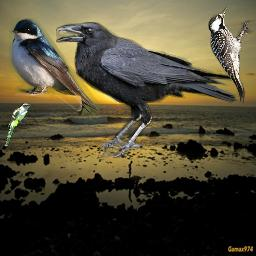Crow: (56, 22, 239, 158)
Cuckoo: (5, 103, 33, 146)
Swallow: (9, 18, 100, 121)
Woodpecker: (208, 7, 253, 104)
